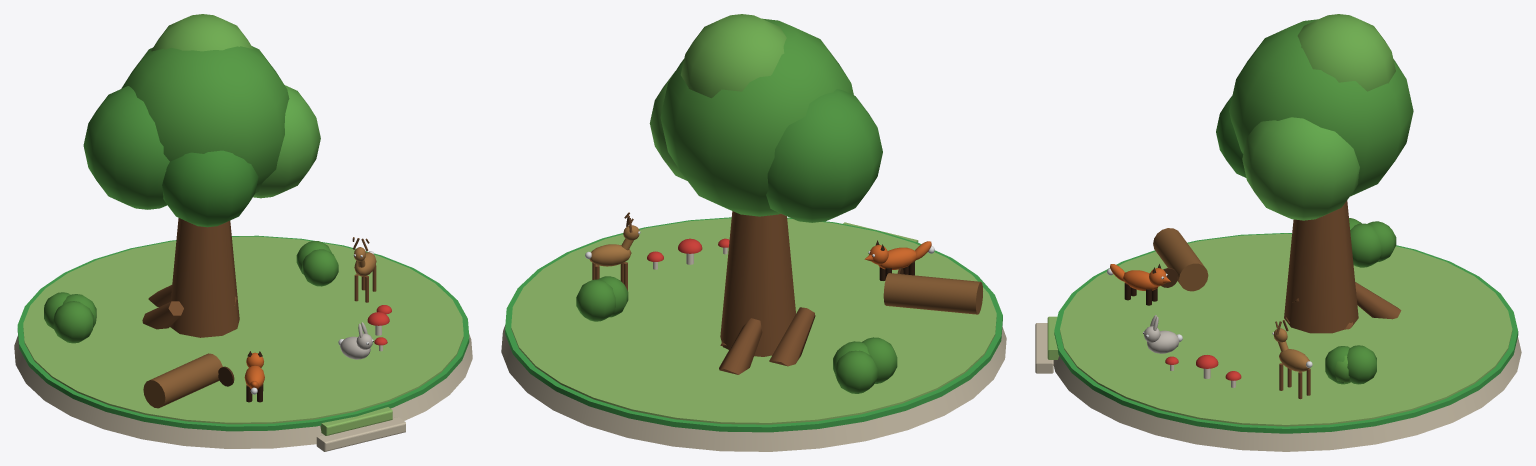
Rendered from forest.glb.
The picture shows the model from 3 angles, left to right: view 1: azimuth 30°, elevation 25°; view 2: azimuth 150°, elevation 25°; view 3: azimuth 270°, elevation 25°; orthographic projection. The views are drawn at different scales.
Visible parts, largest first — view 1: part_000; view 2: part_000; view 3: part_000.
Boxes of the visible parts, <box> form: part_000: <box>14,14,472,451</box>; part_000: <box>501,14,1006,451</box>; part_000: <box>1035,14,1521,451</box>.
Bounding box in the file's own units: 10.72 × 8.32 × 11.07.
